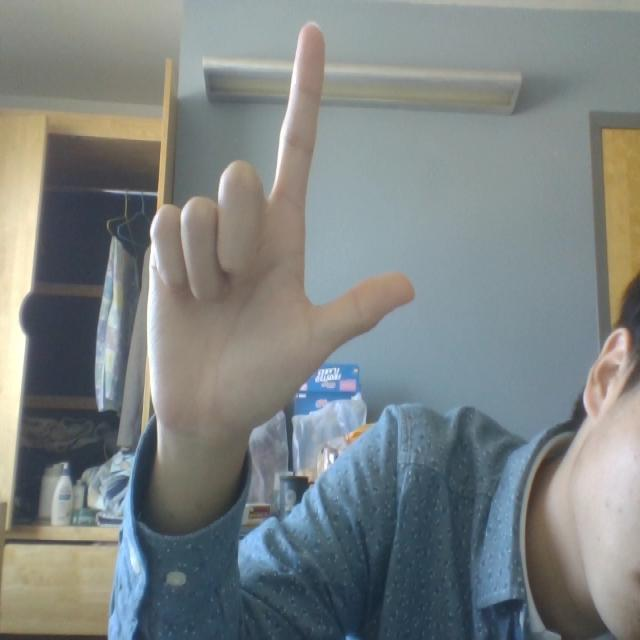L: (114, 11, 433, 468)
